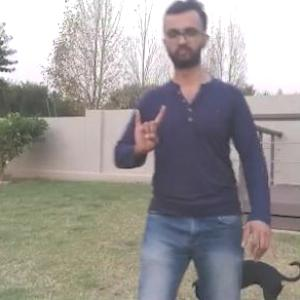takeoff-hand: (126, 96, 169, 162)
